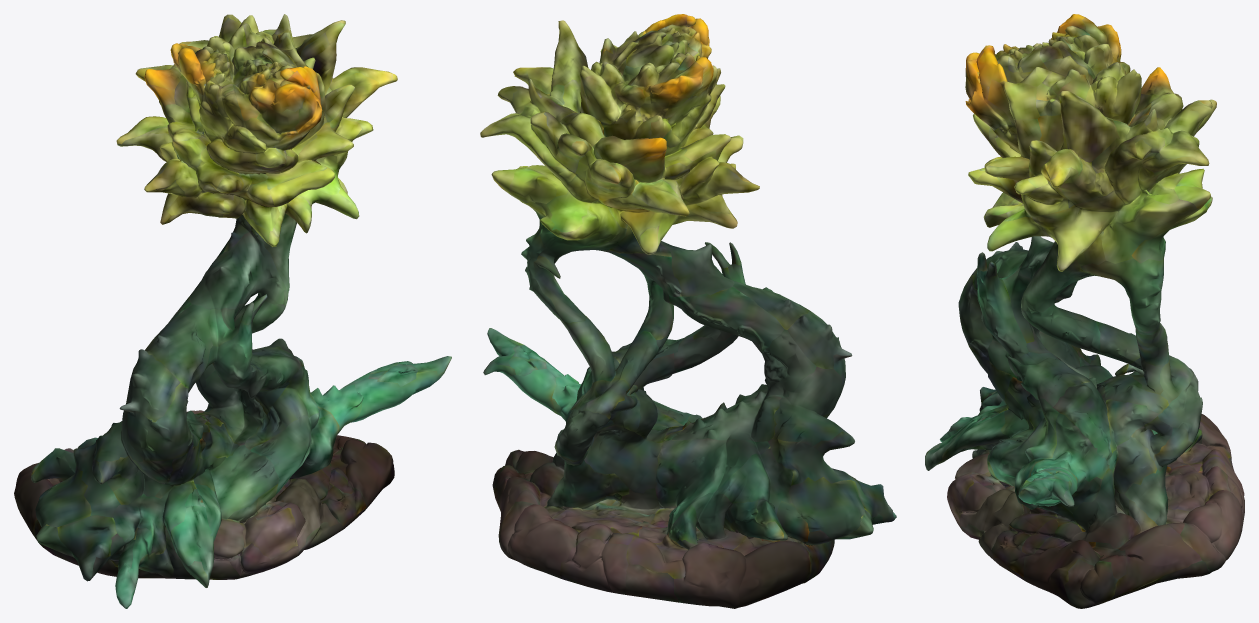
File: synaerea.glb
3 renders of one model, left to right at view 1: azimuth 30°, elevation 25°; view 2: azimuth 150°, elevation 25°; view 3: azimuth 270°, elevation 25°, orthographic. The views are drawn at different scales.
Bounding box in the file's own units: 1.64 × 1.9 × 1.11.
1 material, 1 textured.
